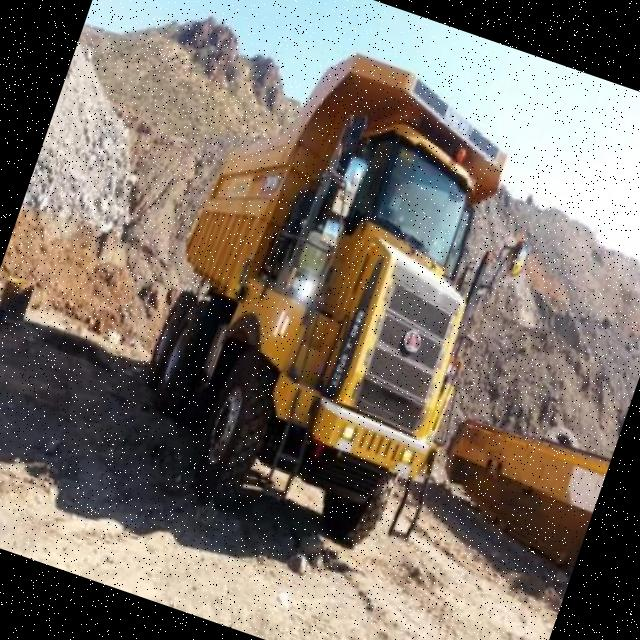Dump Truck: (104, 15, 574, 578)
